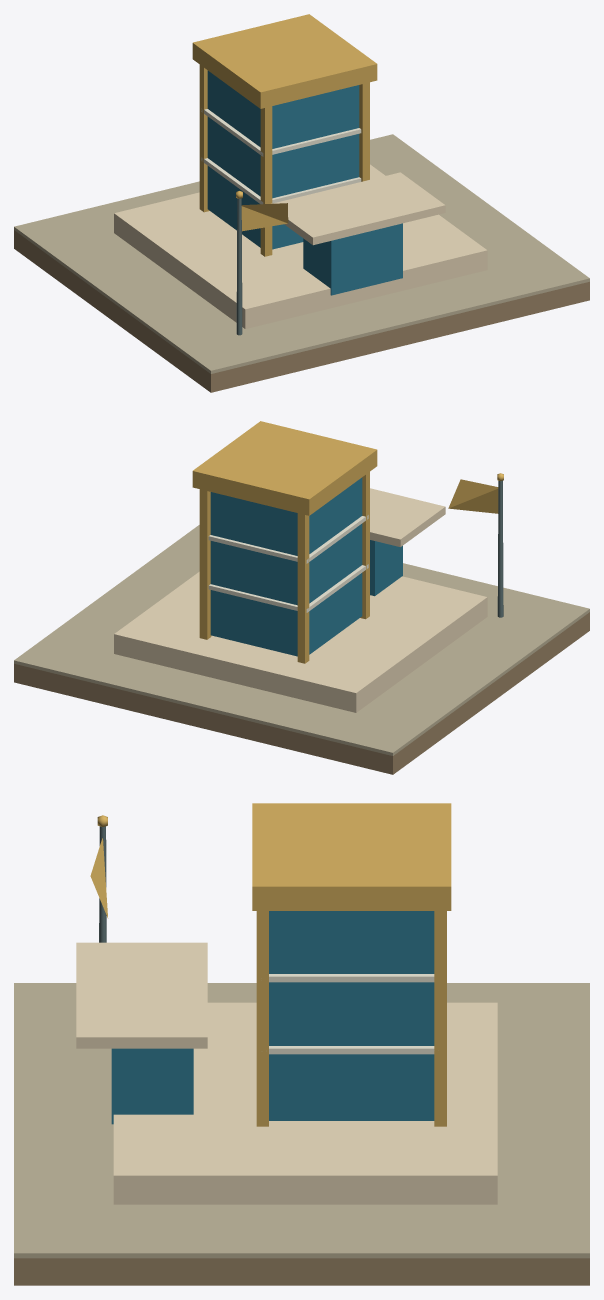
Rendered from club-headquarters-lv1.glb.
3 views of the same model, one above another, from view 1: azimuth 30°, elevation 25°; view 2: azimuth 150°, elevation 25°; view 3: azimuth 270°, elevation 25° (orthographic). The views are drawn at different scales.
Parts seen in each view (by area): view 1: foundation_paving, headquarters_plinth_cream, office_tower_glass, foundation_stoneDark, tower_crown_gold, entrance_canopy_cream, entrance_lobby_glass, tower_mullions_gold, floor_bands_white, flags_gold, flags_iron; view 2: foundation_paving, headquarters_plinth_cream, office_tower_glass, foundation_stoneDark, tower_crown_gold, tower_mullions_gold, entrance_canopy_cream, floor_bands_white, entrance_lobby_glass, flags_gold, flags_iron; view 3: foundation_paving, headquarters_plinth_cream, office_tower_glass, tower_crown_gold, foundation_stoneDark, entrance_canopy_cream, tower_mullions_gold, entrance_lobby_glass, floor_bands_white, flags_gold.
Boxes of the visible parts, bbox=[...] form: foundation_paving: bbox=[14, 134, 589, 373]; headquarters_plinth_cream: bbox=[114, 164, 487, 328]; office_tower_glass: bbox=[207, 70, 359, 249]; foundation_stoneDark: bbox=[14, 230, 589, 392]; tower_crown_gold: bbox=[192, 14, 377, 108]; entrance_canopy_cream: bbox=[271, 172, 445, 245]; entrance_lobby_glass: bbox=[303, 223, 402, 295]; tower_mullions_gold: bbox=[199, 65, 369, 256]; floor_bands_white: bbox=[201, 108, 361, 204]; flags_gold: bbox=[236, 191, 288, 231]; flags_iron: bbox=[236, 198, 242, 335]; foundation_paving: bbox=[14, 525, 589, 755]; headquarters_plinth_cream: bbox=[114, 571, 487, 712]; office_tower_glass: bbox=[210, 477, 362, 656]; foundation_stoneDark: bbox=[14, 612, 589, 774]; tower_crown_gold: bbox=[192, 421, 377, 515]; tower_mullions_gold: bbox=[199, 472, 369, 663]; entrance_canopy_cream: bbox=[370, 488, 445, 547]; floor_bands_white: bbox=[208, 515, 368, 612]; entrance_lobby_glass: bbox=[370, 540, 402, 596]; flags_gold: bbox=[448, 473, 503, 513]; flags_iron: bbox=[497, 480, 503, 617]; foundation_paving: bbox=[14, 983, 589, 1258]; headquarters_plinth_cream: bbox=[113, 1002, 497, 1204]; office_tower_glass: bbox=[269, 911, 434, 1120]; tower_crown_gold: bbox=[252, 803, 451, 910]; foundation_stoneDark: bbox=[14, 1258, 589, 1285]; entrance_canopy_cream: bbox=[76, 942, 207, 1048]; tower_mullions_gold: bbox=[256, 911, 446, 1126]; entrance_lobby_glass: bbox=[111, 1048, 193, 1124]; floor_bands_white: bbox=[269, 974, 434, 1054]; flags_gold: bbox=[90, 815, 108, 918].
Bounding box in the file's own units: 1 × 0.5264 × 0.9.
